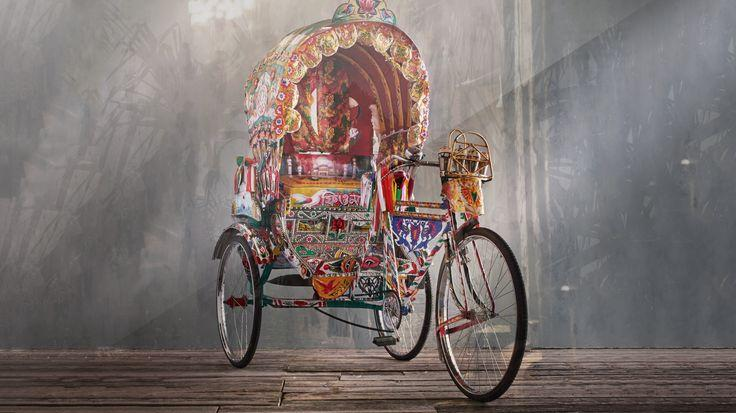Rickshaw: (214, 0, 526, 400)
